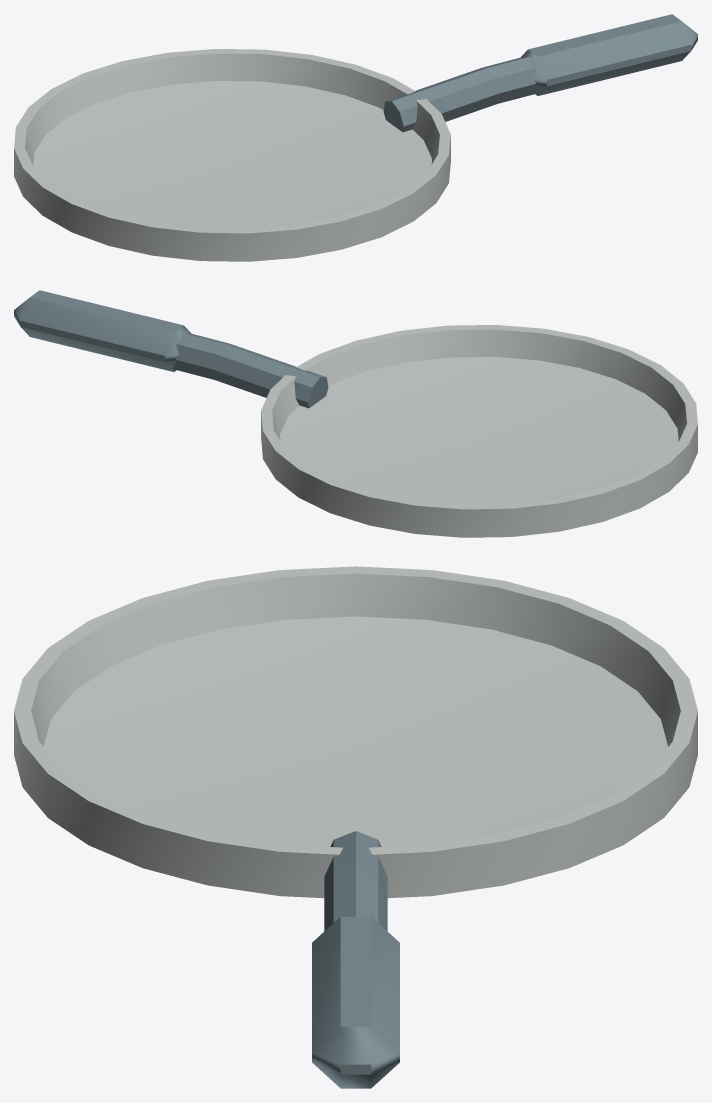
The model's file is frying-pan.glb.
3 views of the same model, one above another, from view 1: azimuth 30°, elevation 25°; view 2: azimuth 150°, elevation 25°; view 3: azimuth 270°, elevation 25° (orthographic). The views are drawn at different scales.
Visible parts, largest first — view 1: pan_basin, insulated_grip, handle_shank; view 2: pan_basin, insulated_grip, handle_shank; view 3: pan_basin, insulated_grip, handle_shank.
Boxes of the visible parts, x1,y1,x2,y2 form: pan_basin: [14, 49, 450, 261]; insulated_grip: [520, 14, 697, 95]; handle_shank: [383, 57, 538, 132]; pan_basin: [261, 325, 697, 537]; insulated_grip: [14, 290, 191, 371]; handle_shank: [173, 333, 328, 408]; pan_basin: [14, 566, 697, 898]; insulated_grip: [312, 916, 399, 1088]; handle_shank: [324, 831, 387, 930].
Bounding box in the file's own units: 0.48 × 0.0455 × 0.28.
